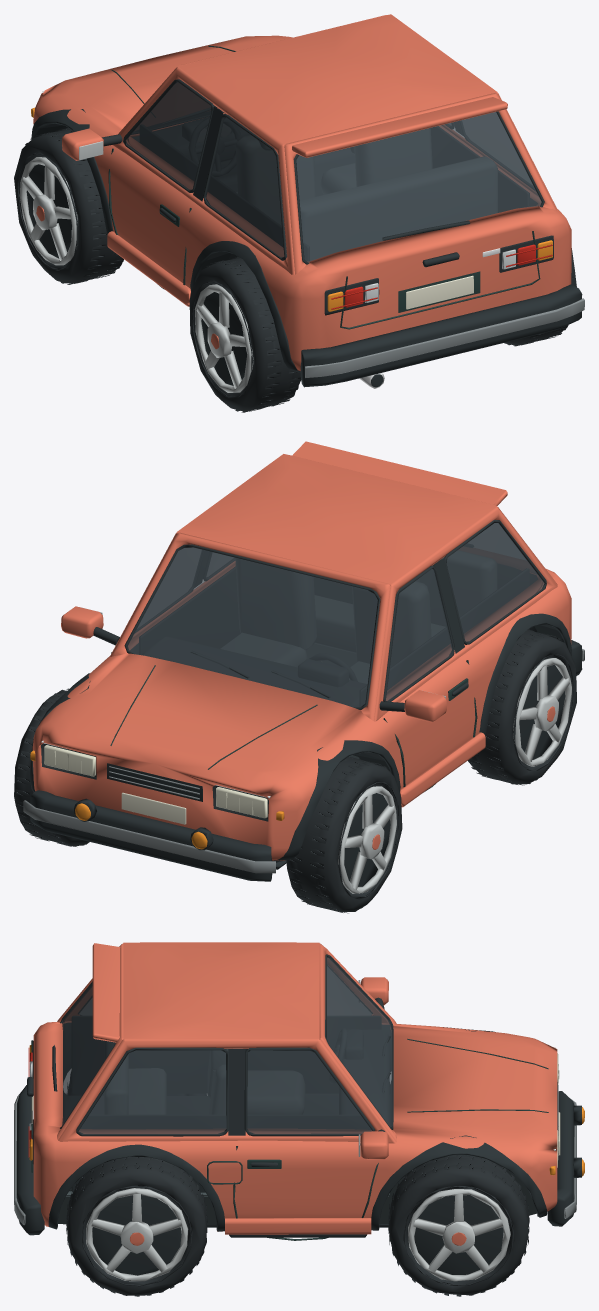
Rendered from sprint_lod2.fbx.
3 views of the same model, one above another, from view 1: azimuth 30°, elevation 25°; view 2: azimuth 150°, elevation 25°; view 3: azimuth 270°, elevation 25° (orthographic). The views are drawn at different scales.
Visible parts, largest first — view 1: Body, Wheel_RL_Mesh, Wheel_FL_Mesh, Wheel_RR_Mesh; view 2: Body, Wheel_FL_Mesh, Wheel_RL_Mesh, Wheel_FR_Mesh; view 3: Body, Wheel_FR_Mesh, Wheel_RR_Mesh.
Boxes of the visible parts, x1,y1,x2,y2 form: Body: [31, 14, 584, 388]; Wheel_RL_Mesh: [189, 257, 301, 412]; Wheel_FL_Mesh: [14, 128, 123, 284]; Wheel_RR_Mesh: [504, 248, 576, 346]; Body: [23, 441, 584, 881]; Wheel_FL_Mesh: [286, 756, 402, 913]; Wheel_RL_Mesh: [468, 629, 576, 785]; Wheel_FR_Mesh: [14, 688, 89, 846]; Body: [14, 942, 584, 1240]; Wheel_FR_Mesh: [388, 1155, 529, 1296]; Wheel_RR_Mesh: [66, 1156, 207, 1296].
Size of the model in its own units: 232 by 156 by 332.
